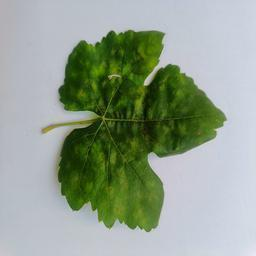Powdery-Mildew: (110, 168, 157, 228), (78, 59, 133, 109), (160, 70, 196, 111), (134, 40, 161, 70), (97, 152, 119, 176), (157, 126, 172, 152), (133, 86, 146, 115), (83, 44, 104, 56), (181, 122, 191, 132), (88, 187, 97, 197)
